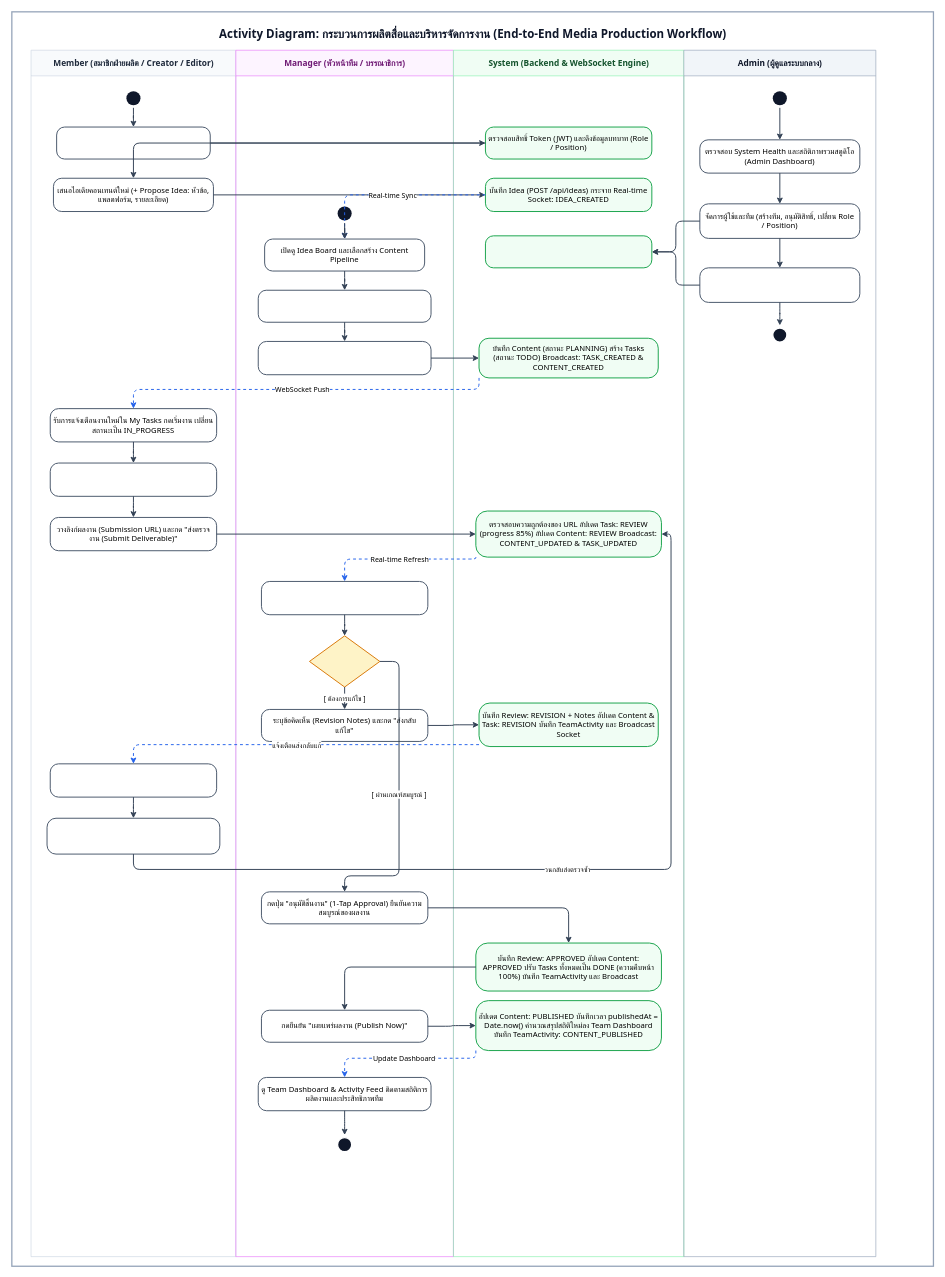
The diagram is 945 pixels wide and 1277 high, and some of its shapes have lost their labels. The box of each missing label's shape, as (x1, y1, x2, y2) in pixels:
กรอก Reply Notes ชี้แจงรายละเอียด แนบลิงก์งานเวอร์ชันใหม่ และกด "ส่งงานรอบแก้ไข": (46, 817, 220, 854)
ดำเนินการผลิต/ตัดต่อ/ออกแบบงาน และอัปโหลดไฟล์ผลงานขึ้น Cloud Storage: (49, 462, 217, 497)
ตรวจสอบ Audit Logs แบบ Real-time บันทึกทุก Action และจัดการล้างประวัติ: (699, 267, 860, 303)
บันทึก Audit Logs และซิงค์ฐานข้อมูล (users, teams, contents, tasks): (485, 235, 652, 268)
ผลการ ตรวจงาน?: (309, 635, 380, 687)
สร้างงานย่อย (Tasks) และมอบหมาย (Assign) ให้สมาชิกทีมตาม Position: (257, 341, 431, 375)
สร้างชิ้นงาน Content กำหนดชื่อ, กำหนดส่ง (Due Date) และแพลตฟอร์ม: (257, 289, 431, 322)
เข้าสู่ระบบ / ลงทะเบียน (ด้วย Team Code หรือเลือกสังกัดทีม): (56, 126, 210, 159)
เปิดรายการงานรอตรวจ (In Review) กดเปิดลิงก์ผลงานเพื่อตรวจสอบคุณภาพ: (261, 581, 428, 615)
เปิดอ่าน Revision Notes ในการ์ดงาน ดำเนินการปรับแก้ชิ้นงานตามฟีดแบ็ก: (49, 763, 217, 797)
